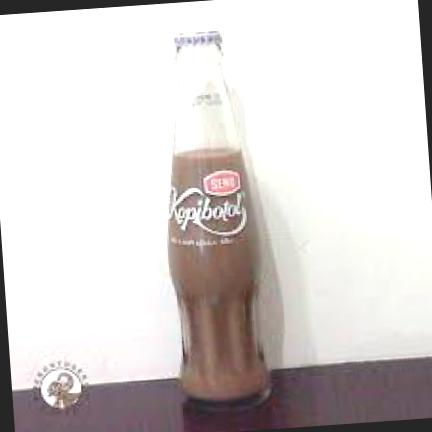container: (167, 30, 268, 399)
fluid: (166, 147, 269, 399)
fluid-surface: (172, 147, 240, 159)
